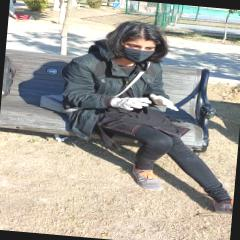gloved: (111, 96, 150, 112), (149, 93, 180, 113)
